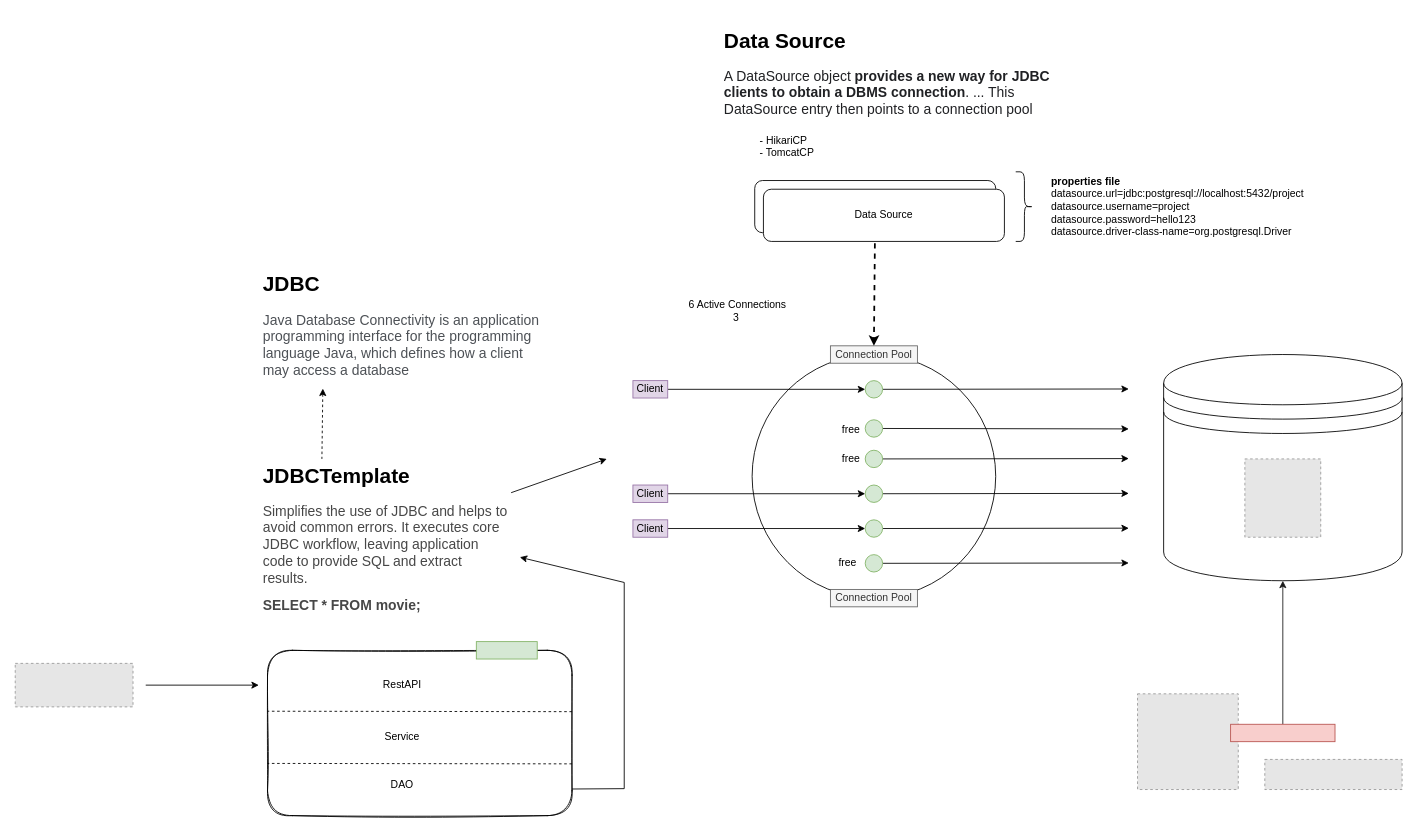
Some shapes in this 1418 by 831 pixel diagram are drawn without their labels. Grey dashed boxes stand in for pictures. The shapes that lost their labels are listed below. From the top down, each one's centre as x and y in pixels, then its label:
At (506,650): "backend".
At (1282,732): "Database Migration".
